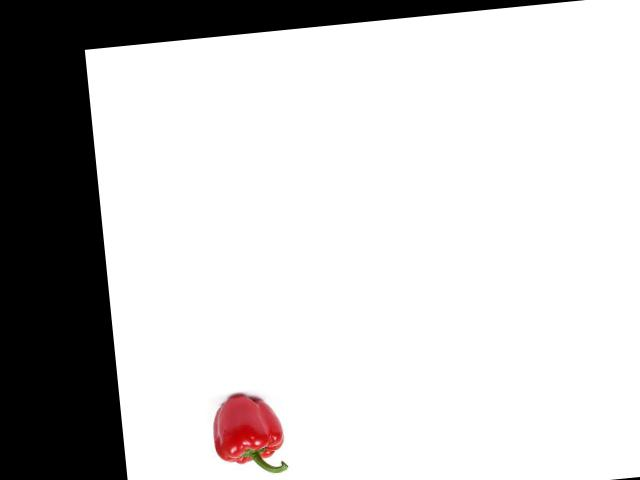bell_pepper: (203, 388, 292, 480)
